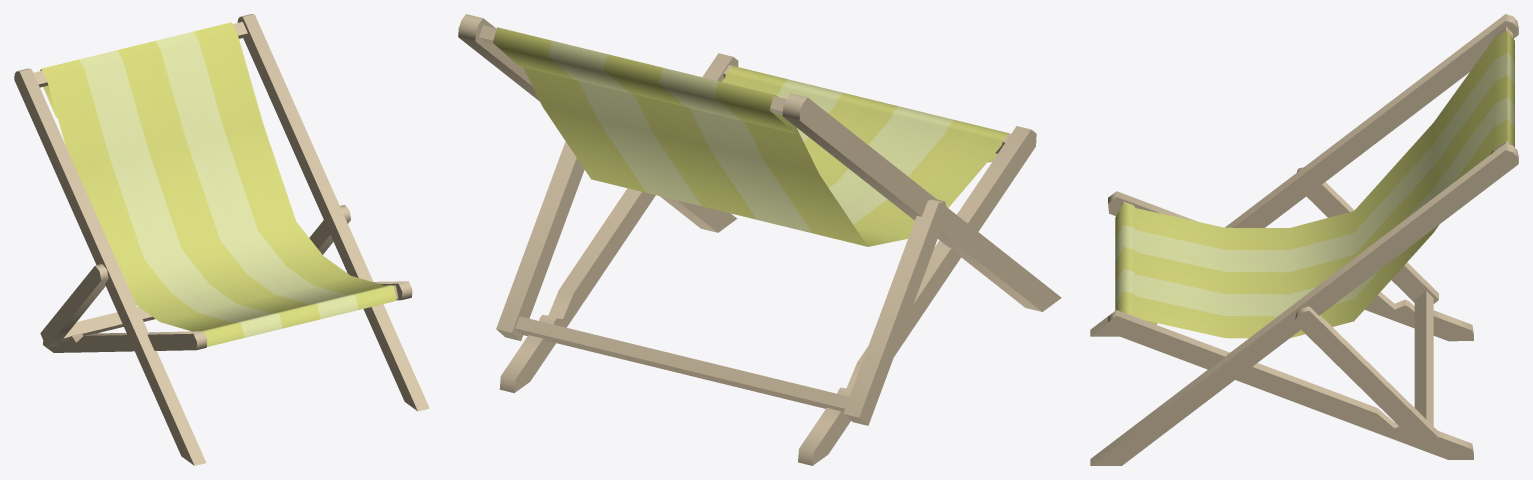
Rendered from BeachChair_Yellow.fbx.
3 renders of one model, left to right at view 1: azimuth 30°, elevation 25°; view 2: azimuth 150°, elevation 25°; view 3: azimuth 270°, elevation 25°, orthographic. The views are drawn at different scales.
Parts seen in each view (by area): view 1: BeachChair_Yellow; view 2: BeachChair_Yellow; view 3: BeachChair_Yellow.
Part boxes in pixels (x1,y1,x2,y2): BeachChair_Yellow: (14,14,429,465); BeachChair_Yellow: (458,14,1061,465); BeachChair_Yellow: (1090,14,1518,465).
Bounding box in the file's own units: 117 × 119 × 146.
